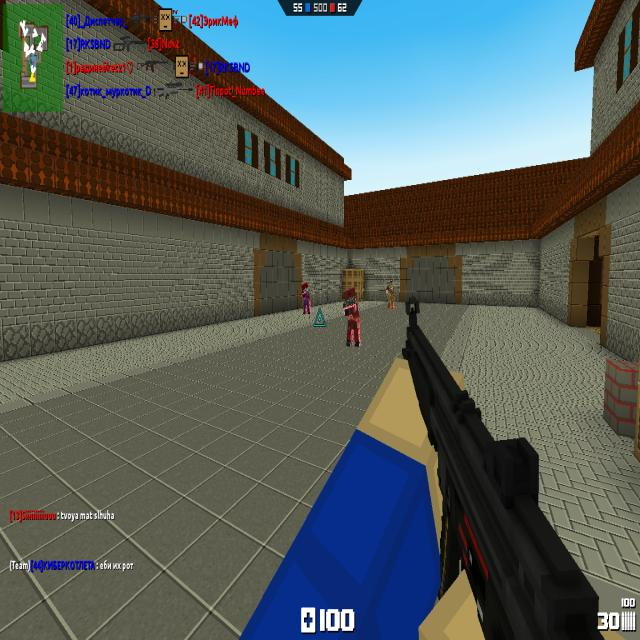enemy: (343, 286, 361, 347), (301, 282, 311, 315), (386, 280, 395, 309)
